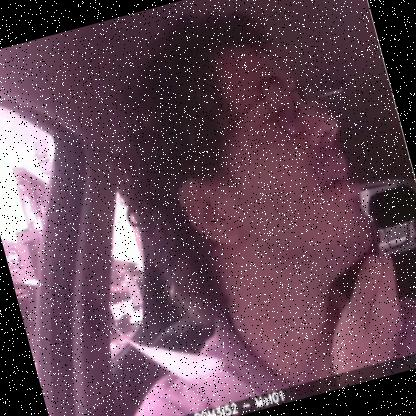phone: (327, 207, 393, 288)
